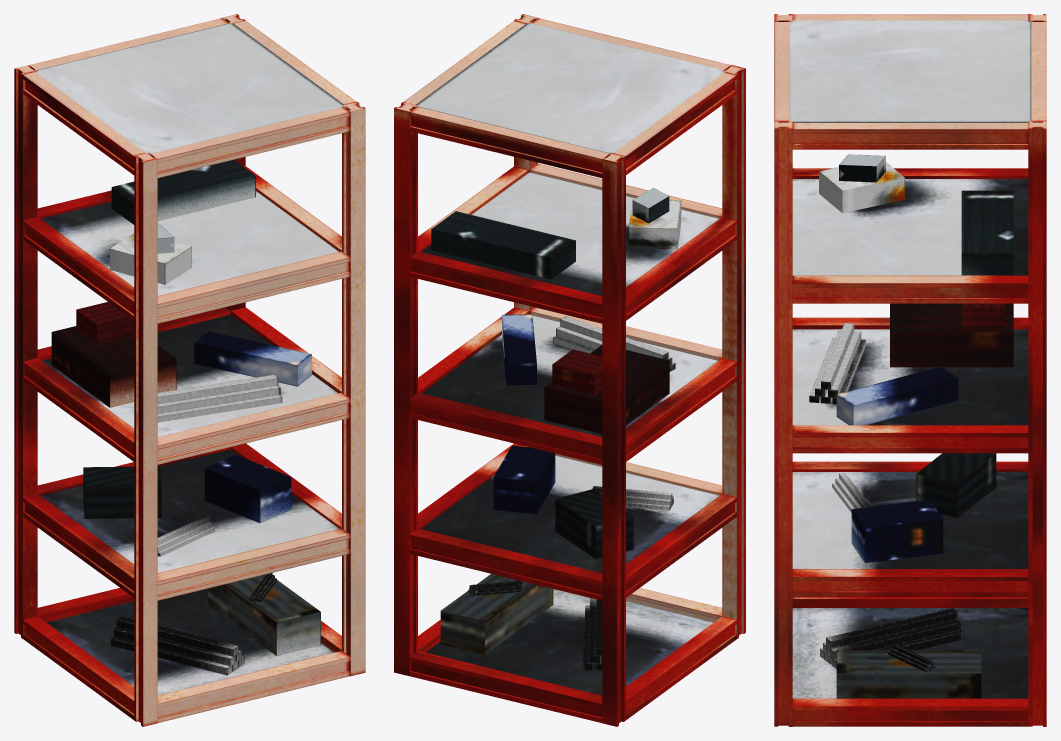
The model's file is tower1-1l.obj.
3 renders of one model, left to right at view 1: azimuth 30°, elevation 25°; view 2: azimuth 150°, elevation 25°; view 3: azimuth 270°, elevation 25°, orthographic. The views are drawn at different scales.
Size of the model in its own units: 12.08 by 29.2 by 12.07.
Materials: 1 (1 with a texture image).
